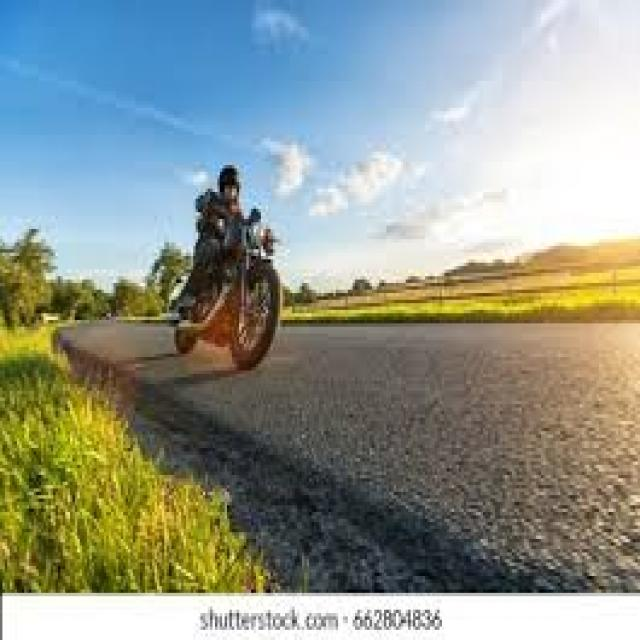Bike: (176, 197, 279, 363)
